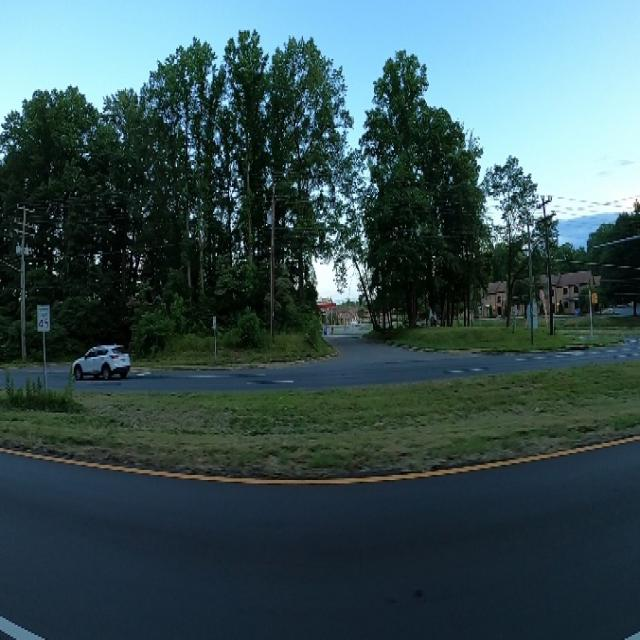car: (66, 335, 136, 386)
